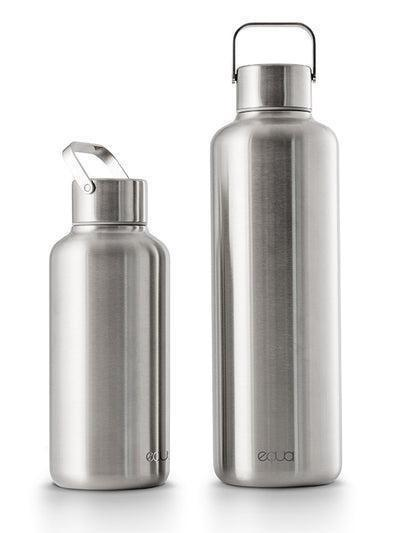gym bottle: (203, 5, 345, 495), (43, 141, 174, 494)
